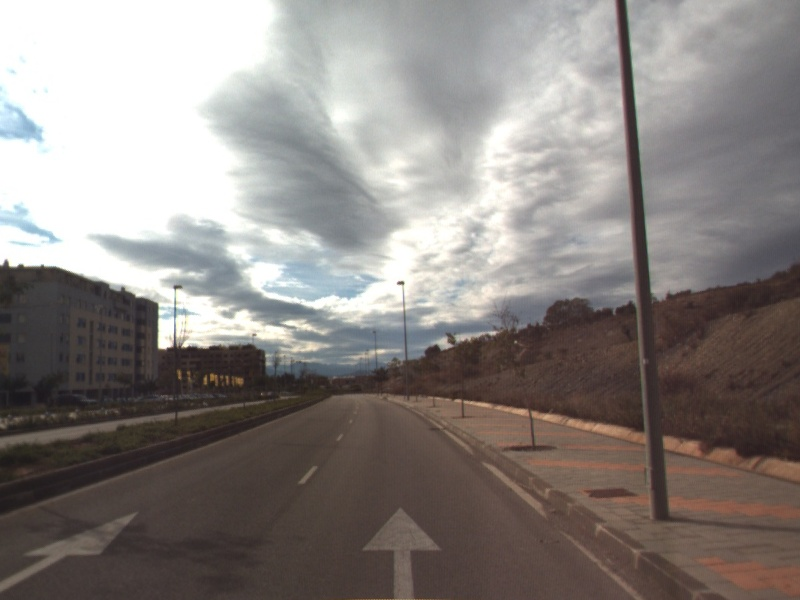STRAIGHT: (1, 509, 141, 592), (359, 503, 445, 600)
